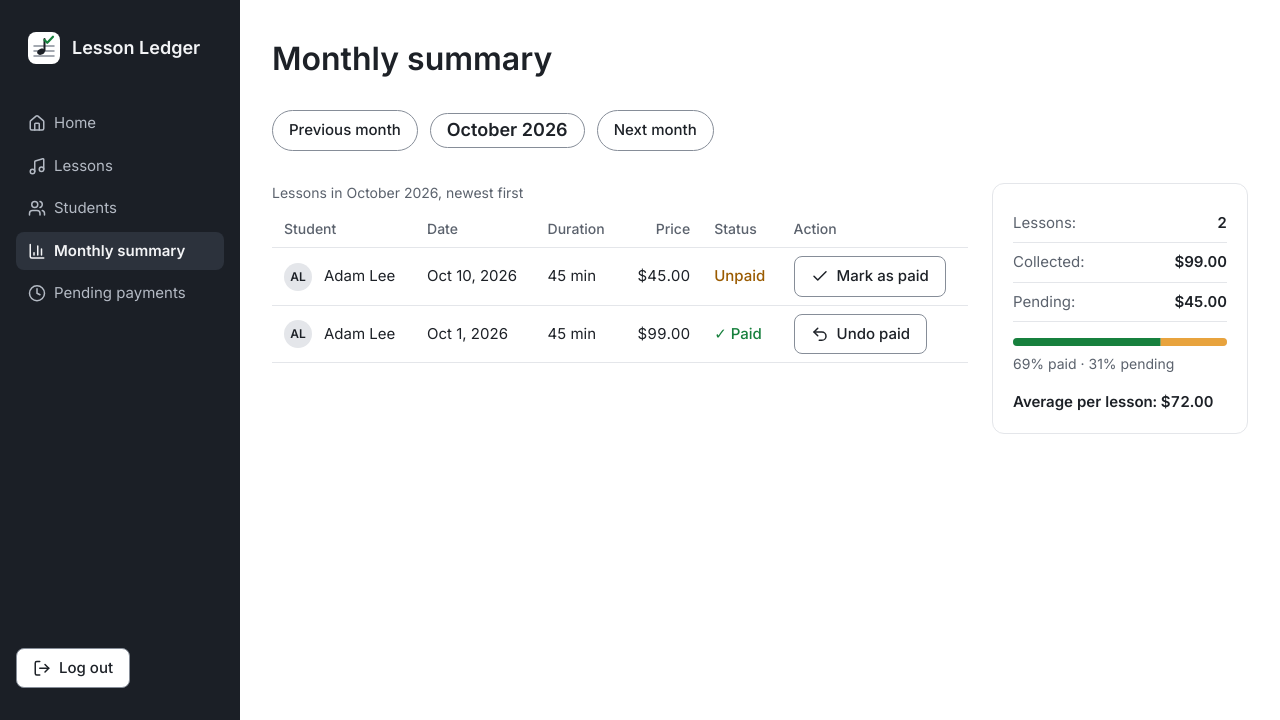
it: AC-3 race: undo announces and shows reverted totals when the mark's refetch lands mid-undo (read before the undo: /api/monthly-summaries/2026-10)
This screenshot has width=1280, height=720.
Expected: the table is shown, [272,183,968,364]
What coordinates should you click on to do the following:
click the button with aria-label "Mark as paid: Adam Lee, Oct 10, 2026"
I would click on:
 (870, 277)
Its box is [794,256,946,297].
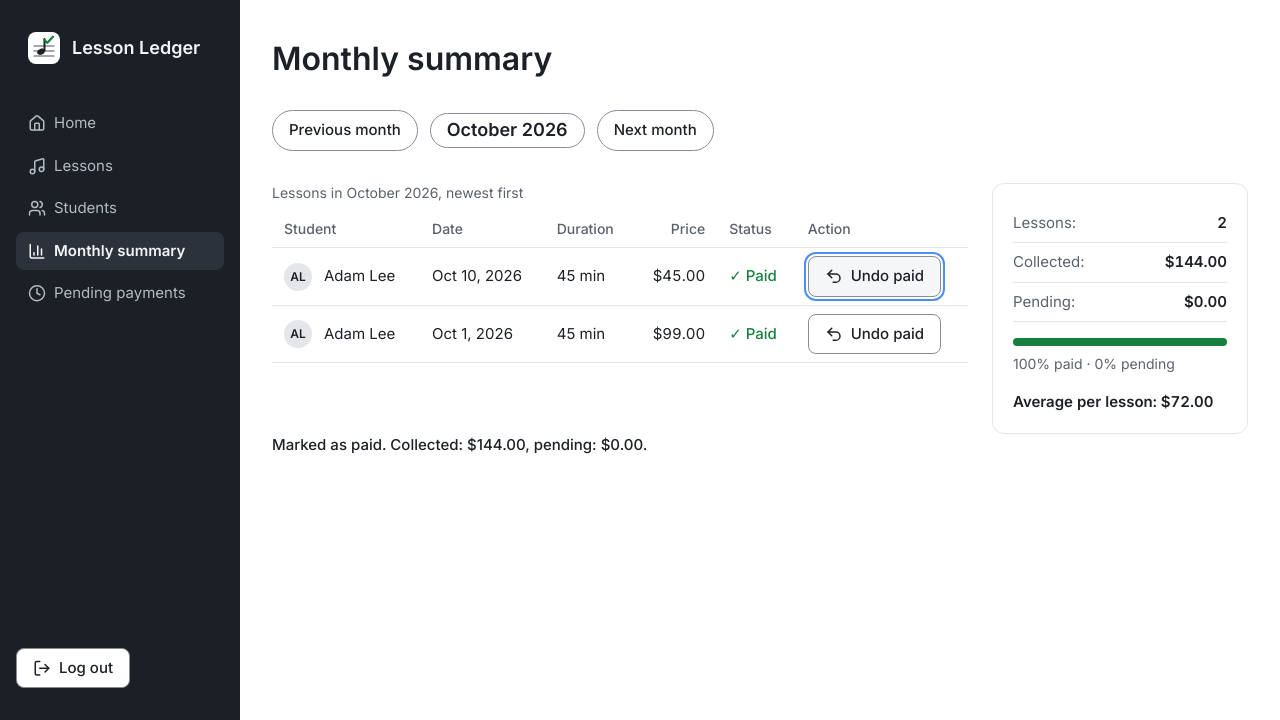
What coordinates should you click on to do the following:
click the button with aria-label "Undo paid: Adam Lee, Oct 10, 2026"
I would click on:
 (874, 277)
Its box is [808,256,941,297].
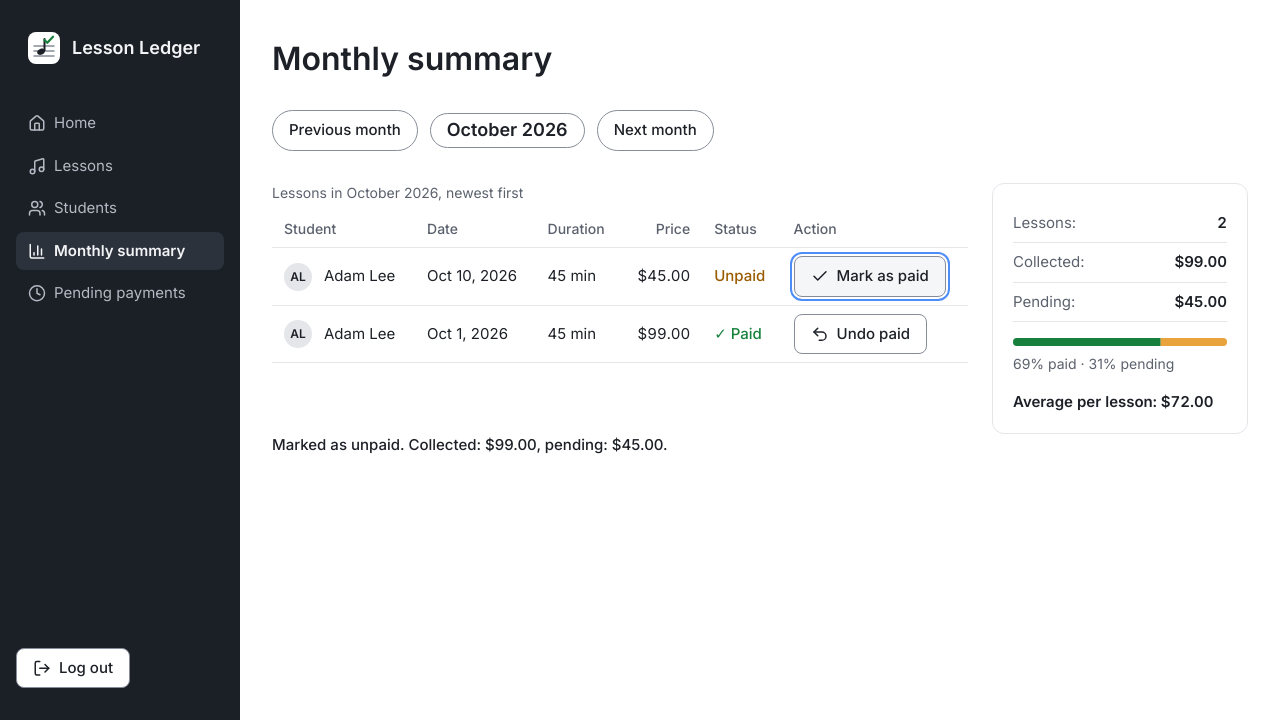
Now the button with aria-label "Mark as paid: Adam Lee, Oct 10, 2026" is shown, box [794,256,946,297]
Now the message reads "Marked as unpaid. Collected: $99.00, pending: $45.00.", box [272,435,668,454]
